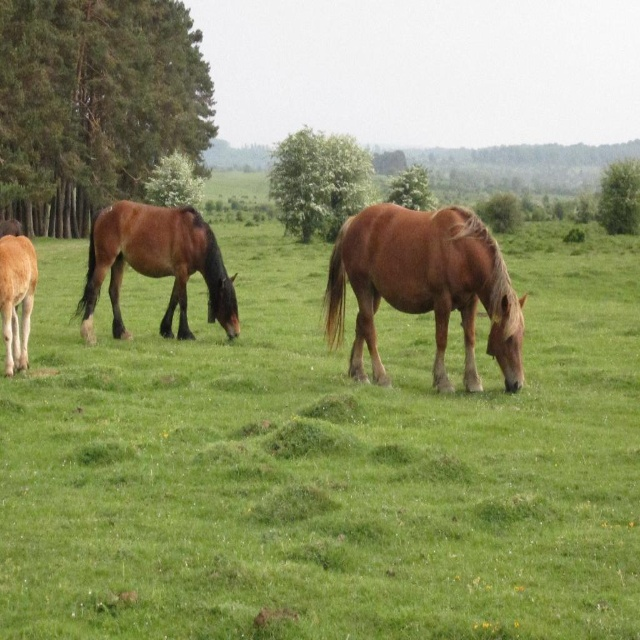Horse: (317, 205, 527, 401), (66, 201, 242, 345)
